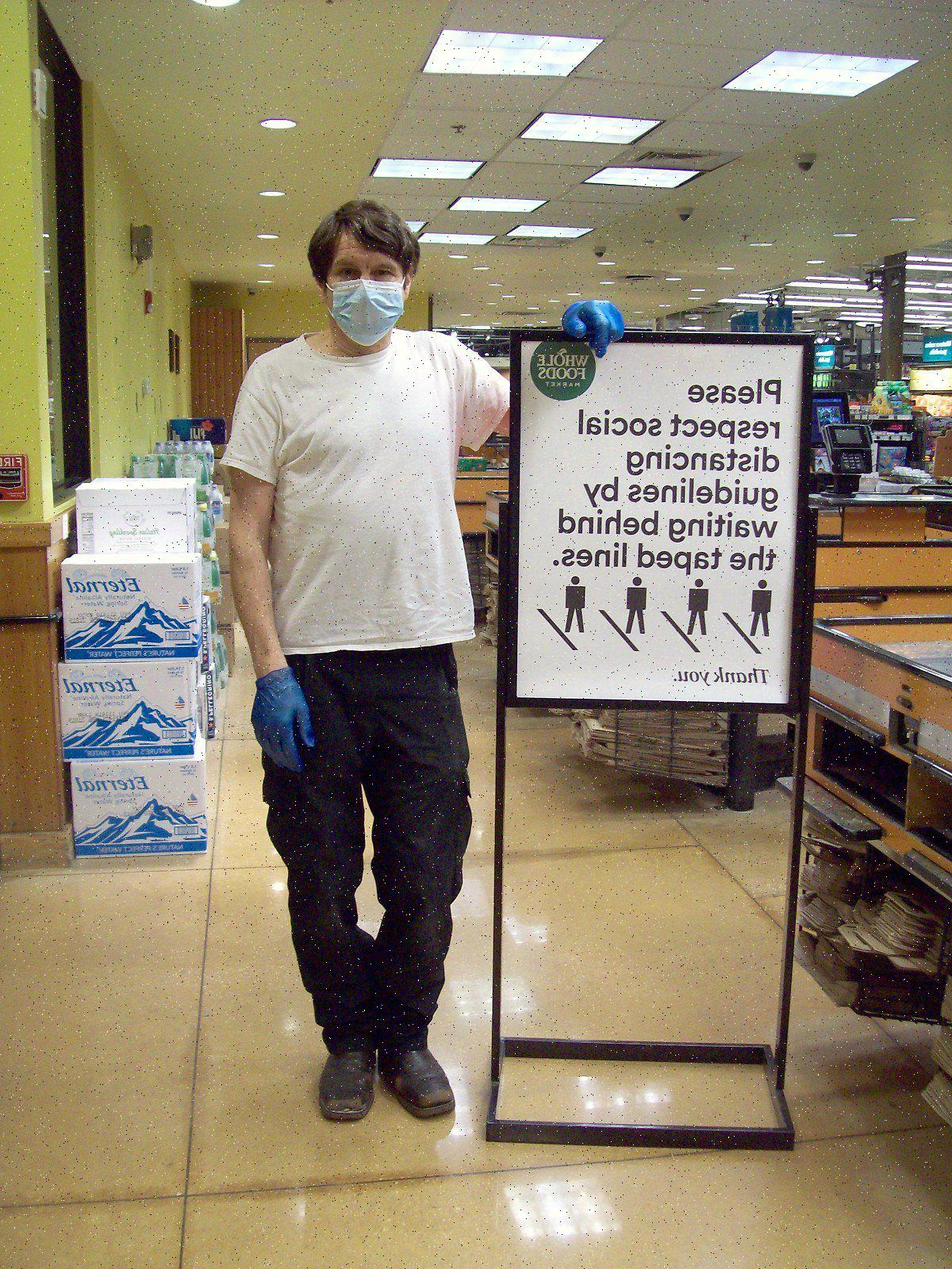Person: (211, 194, 512, 1138)
